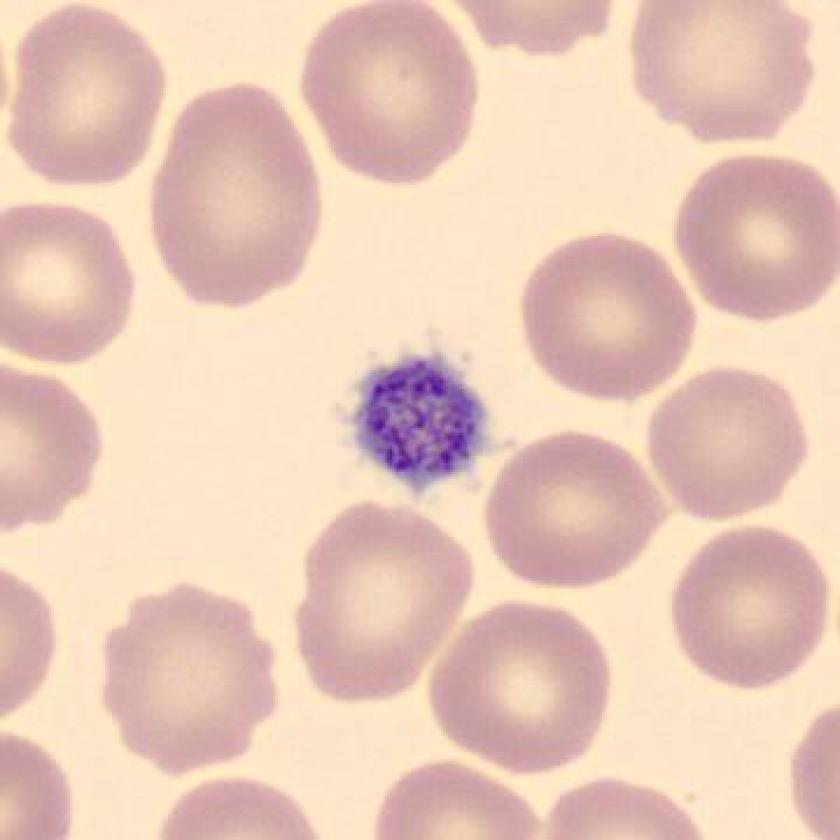platelets: (339, 341, 505, 503)
